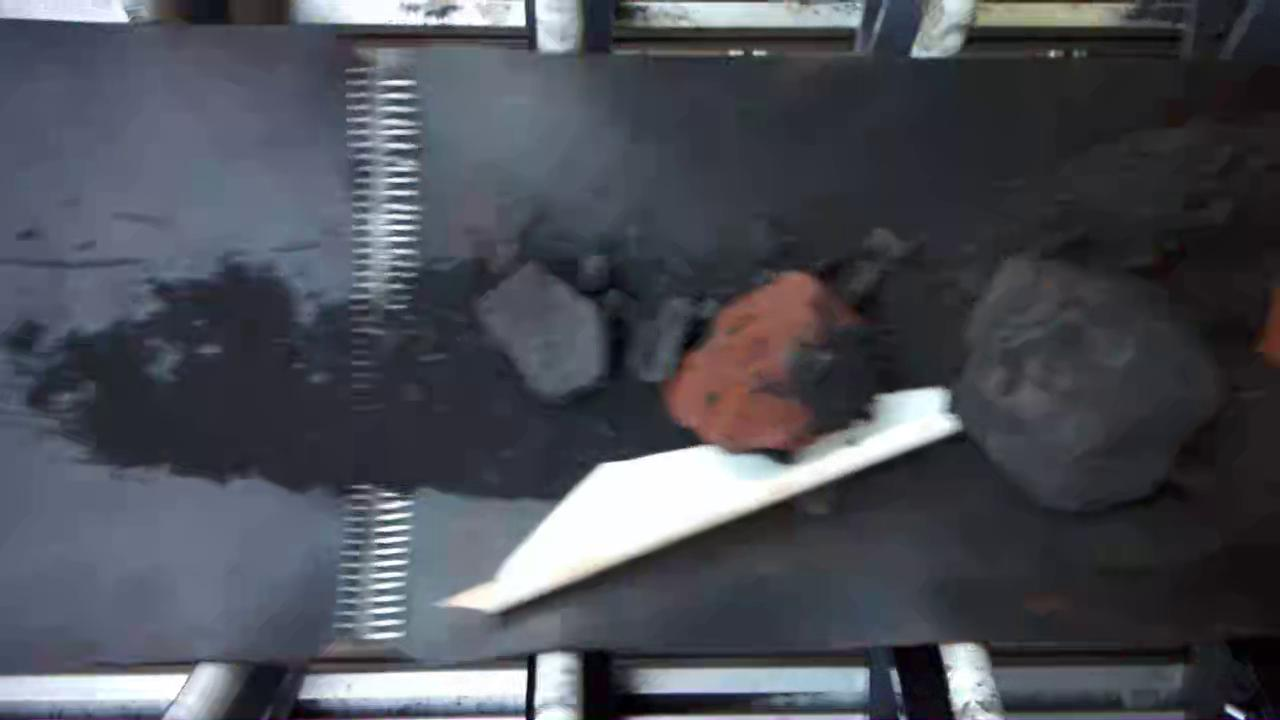conveyor: (6, 56, 1280, 644)
